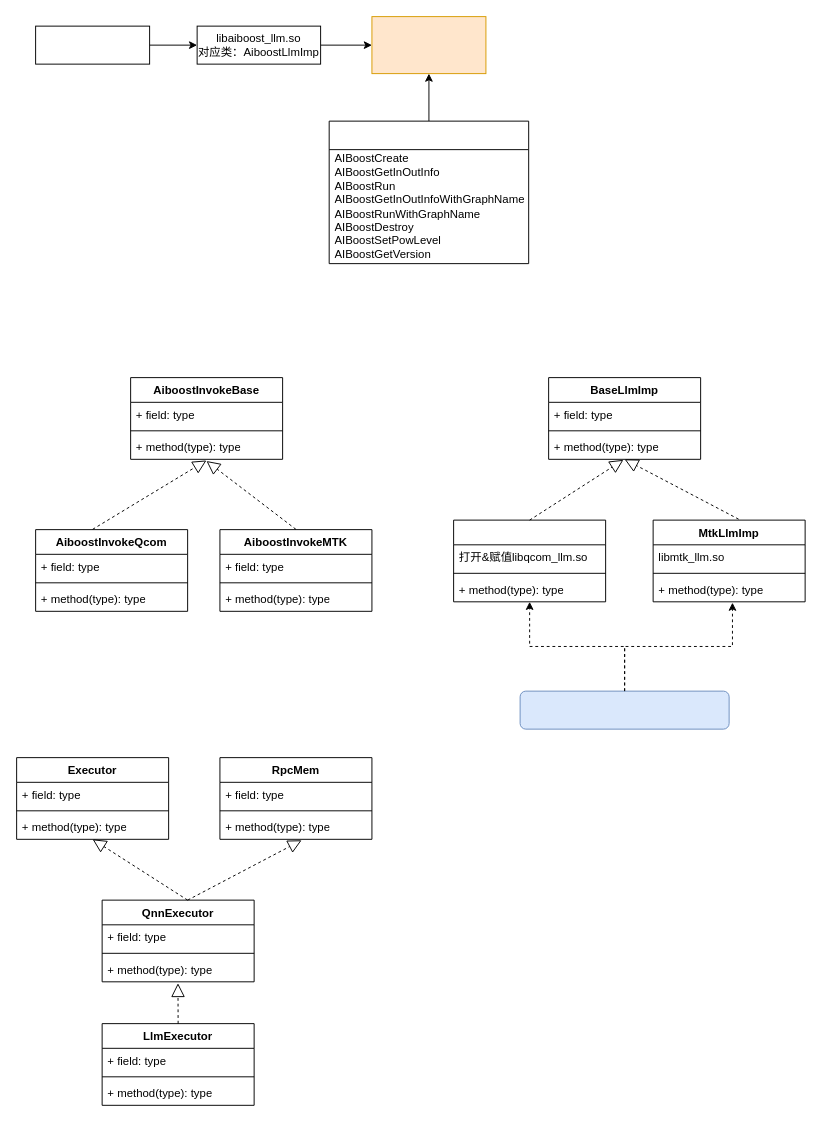
This 822x1125 diagram has some shape labels left out. The box of each missing label's shape, as (x1, y1, x2, y2) in pixels:
./aiboost_llm_test: (35, 25, 150, 64)
libaiboost.so 对应类：AiboostImp (当前类没有看到源码 ): (371, 16, 486, 74)
libaiboost.so(包含的inteface): (328, 120, 529, 264)
QcomLlmImp(): (453, 519, 606, 602)
当前so在aiboost_llm仓库中的/Inference/jni/Android_llm.mk进行生成: (519, 690, 729, 729)
